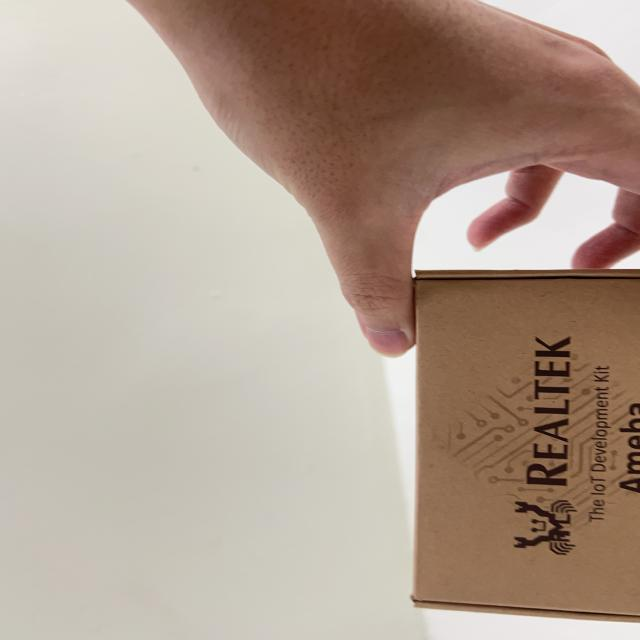box: (386, 255, 640, 640)
